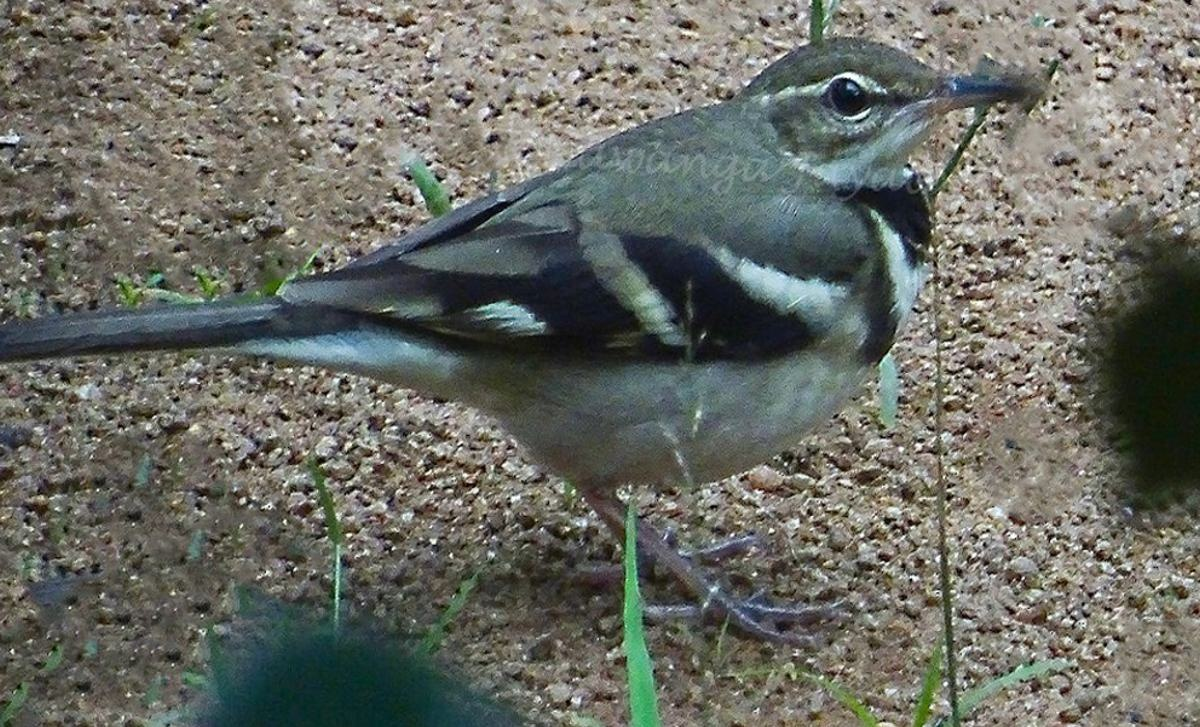wagtail: (95, 36, 1037, 536)
